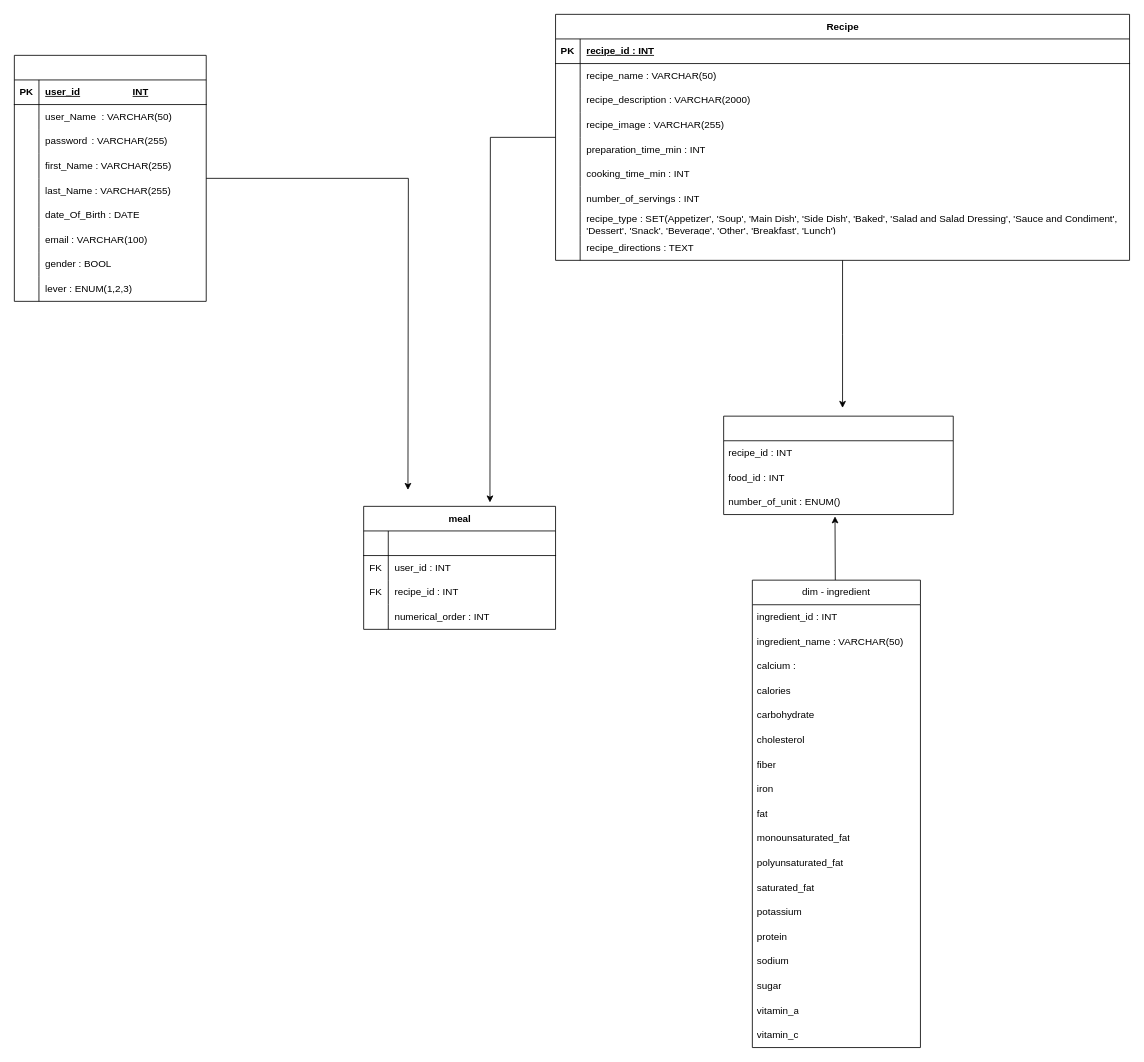
Some shapes in this 1144 by 1062 pixel diagram are drawn without their labels. Here are the shapes that lost their labels. From the top down, the box of each, then its label:
(14, 55, 206, 301): Users
(723, 415, 953, 515): Fact - recipe_ingredients
